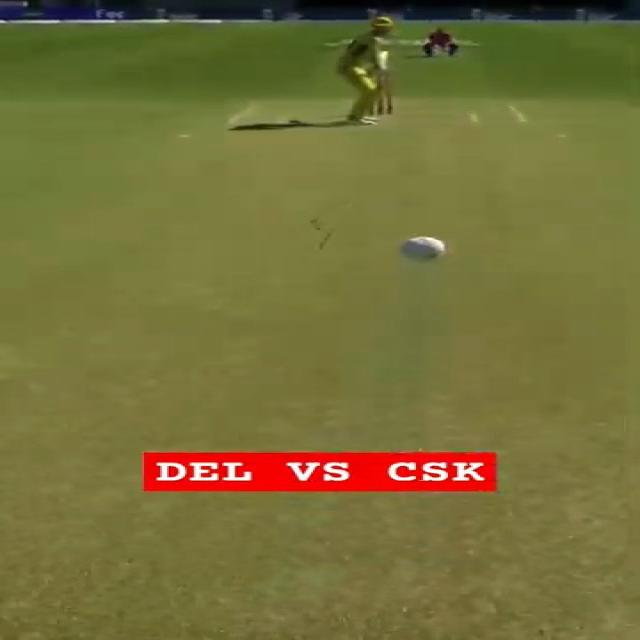ball: (388, 225, 455, 269)
